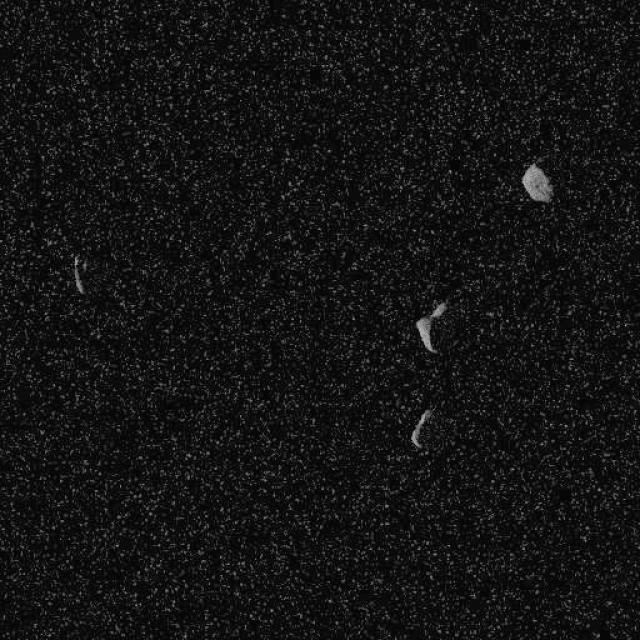D2: (413, 298, 448, 354), (520, 162, 554, 202), (408, 408, 434, 448), (70, 253, 88, 295)
